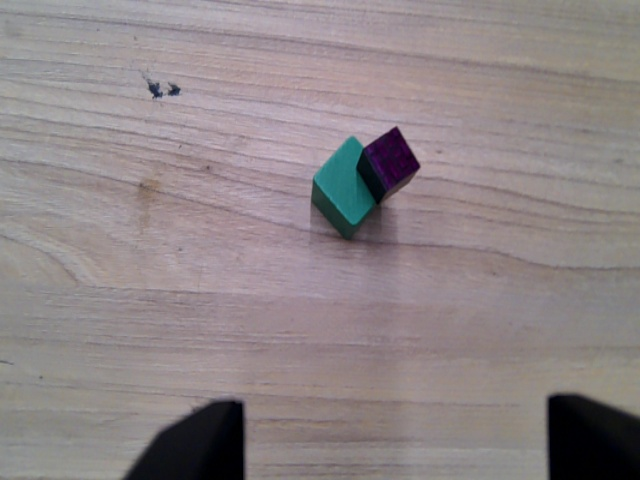brick: (355, 126, 423, 205)
